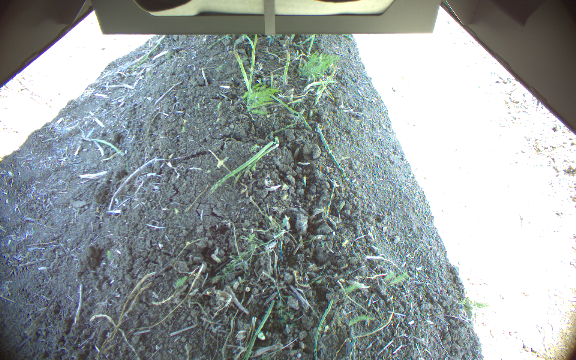aspa: (232, 48, 251, 91), (247, 34, 258, 92), (281, 50, 292, 87)
